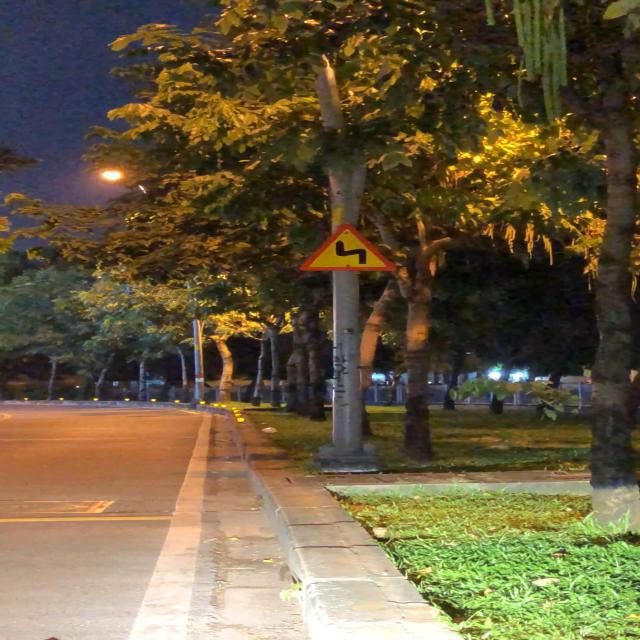Bien bao nhieu cho ngoat nguy hiem lien tiep: (295, 220, 402, 274)
